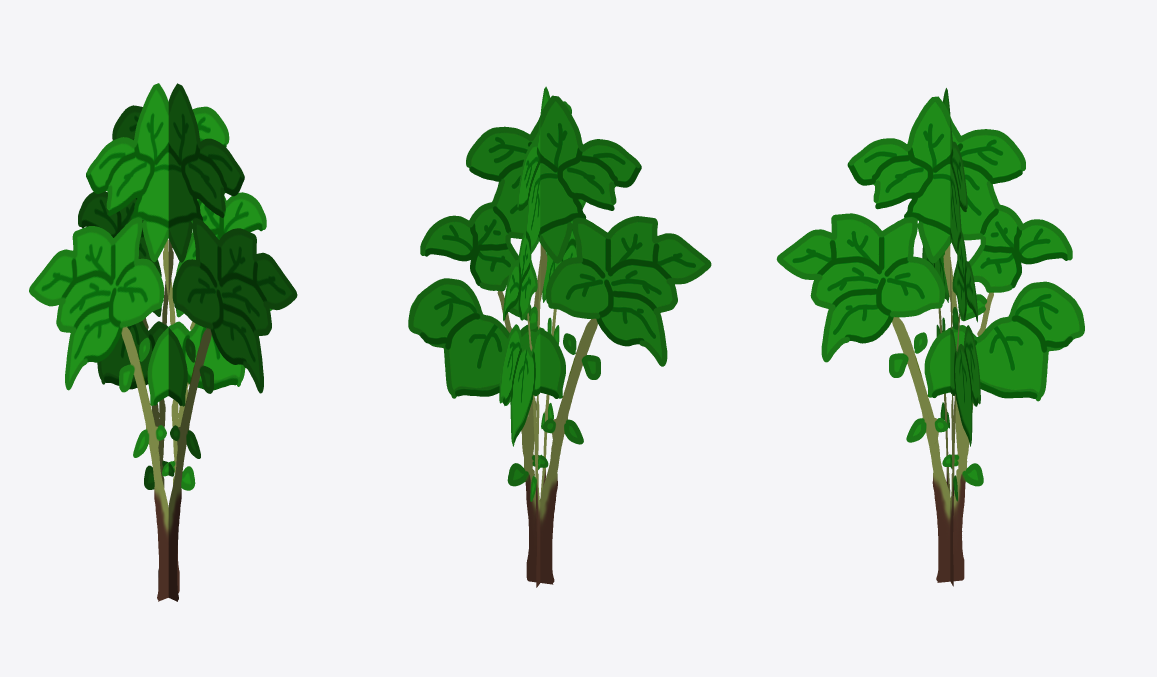
File: PapaF2.glb
The picture shows the model from 3 angles, left to right: view 1: azimuth 30°, elevation 25°; view 2: azimuth 150°, elevation 25°; view 3: azimuth 270°, elevation 25°; orthographic projection. The views are drawn at different scales.
Parts seen in each view (by area): view 1: PapaF2; view 2: PapaF2; view 3: PapaF2.
Boxes of the visible parts, x1=… form: PapaF2: x1=29, y1=83, x2=297, y2=601; PapaF2: x1=408, y1=86, x2=711, y2=587; PapaF2: x1=776, y1=88, x2=1084, y2=586.
Bounding box in the file's own units: 0.5882 × 0.8201 × 0.5882.
Materials: 1 (1 with a texture image).
